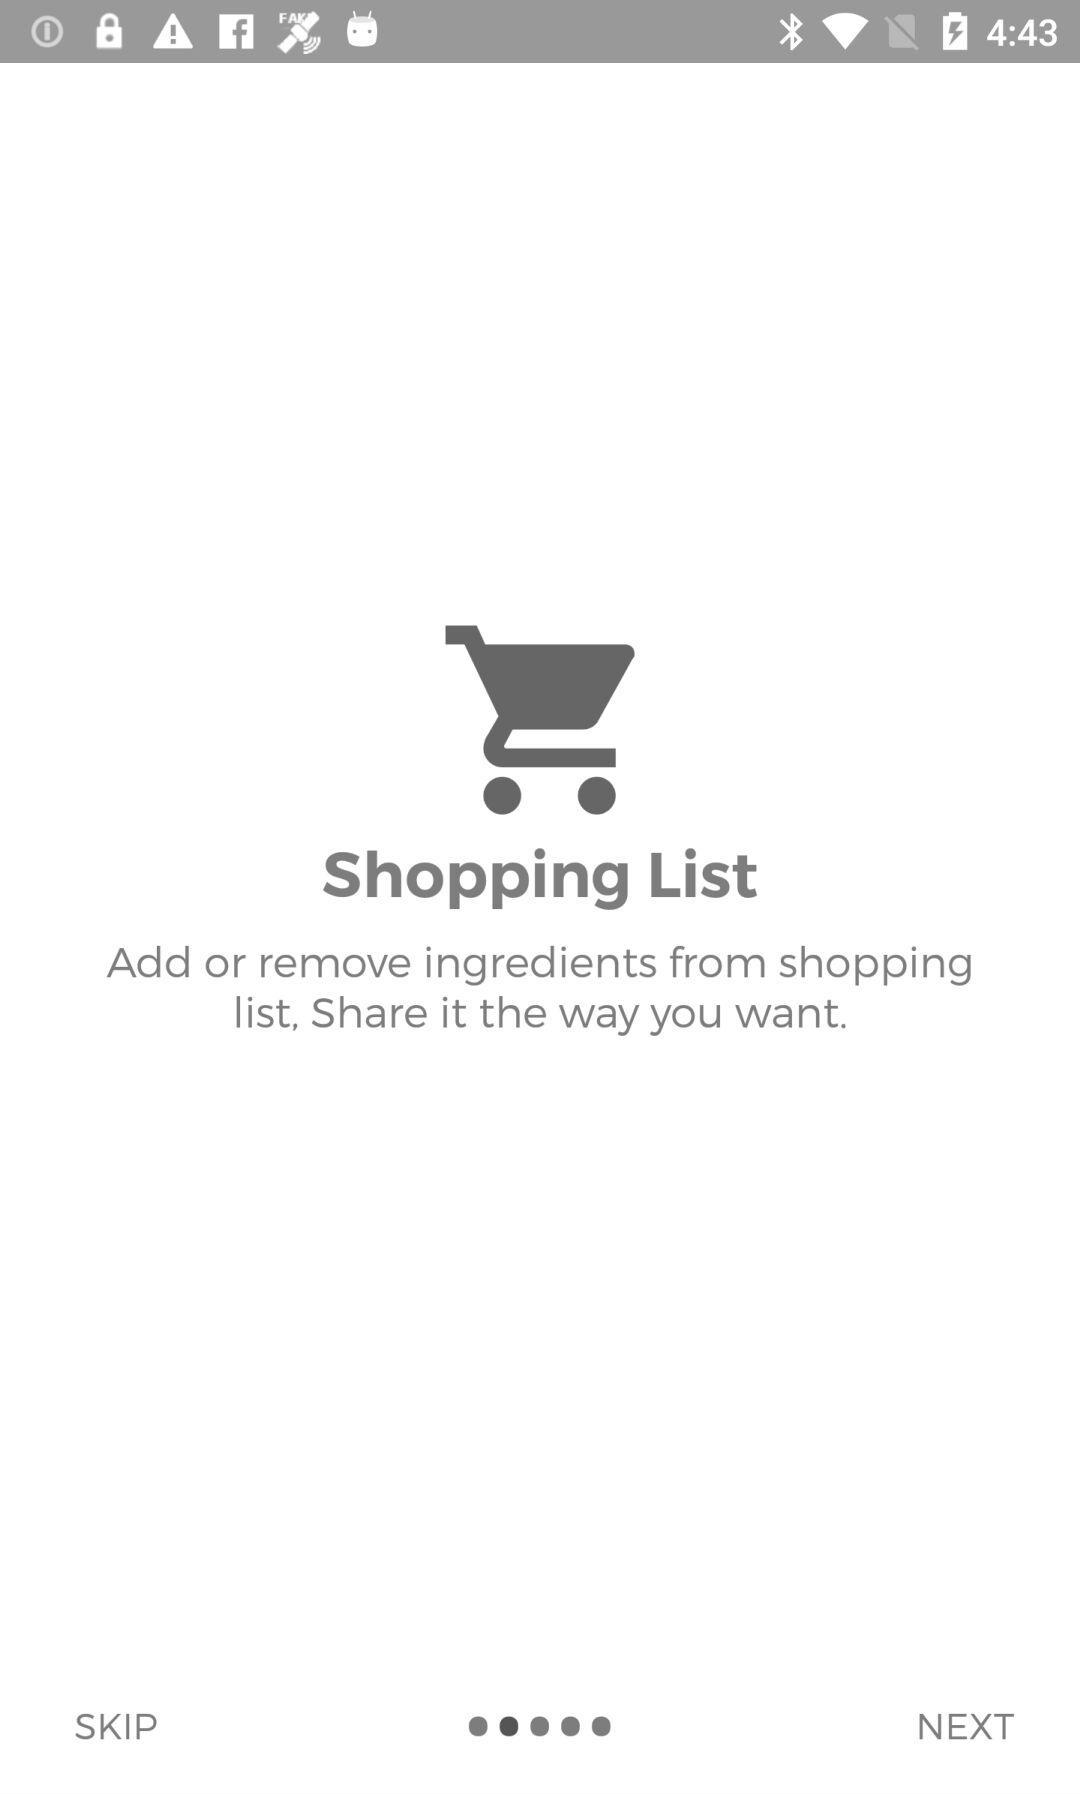Icon: (445, 625, 637, 816)
PageIndicator: (468, 1715, 612, 1738)
Text: (106, 944, 972, 1038), (323, 848, 758, 911), (919, 1713, 1015, 1741), (76, 1713, 158, 1741)
UpperTaskBar: (1, 1, 1080, 64)
